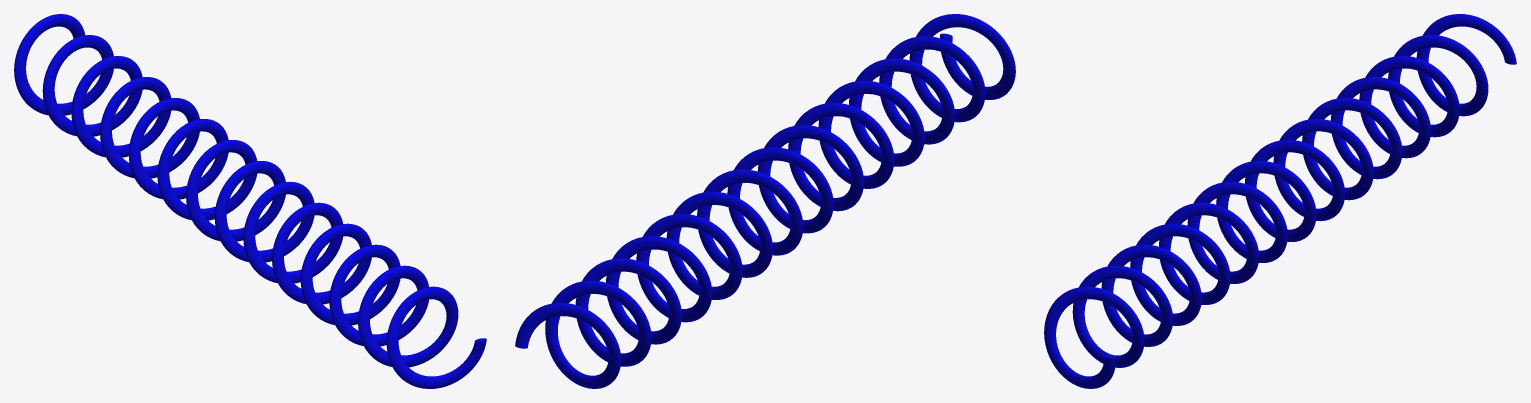
The model's file is Spine_Mesh.fbx.
3 views of the same model, side by side, from view 1: azimuth 30°, elevation 25°; view 2: azimuth 150°, elevation 25°; view 3: azimuth 330°, elevation 25° (orthographic). The views are drawn at different scales.
Parts seen in each view (by area): view 1: Spine; view 2: Spine; view 3: Spine.
Part boxes in pixels (box(x1,y1,x2,y2)): Spine: box(14, 14, 486, 388); Spine: box(515, 14, 1015, 388); Spine: box(1044, 14, 1516, 388).
Size of the model in its own units: 2.51 by 2.51 by 20.68.
